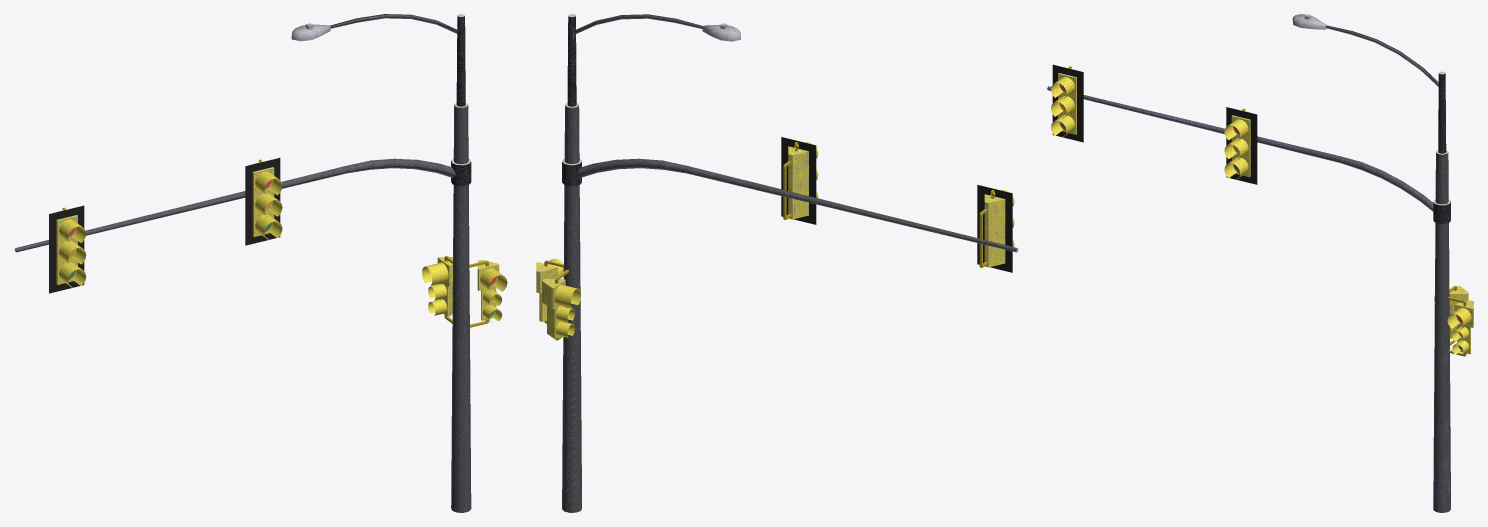
3 renders of one model, left to right at view 1: azimuth 30°, elevation 25°; view 2: azimuth 150°, elevation 25°; view 3: azimuth 330°, elevation 25°, orthographic. The views are drawn at different scales.
Parts seen in each view (by area): view 1: SketchUp, group_2, sun_shield (×2), group_0 (×2); view 2: SketchUp, group_2, sun_shield (×2), group_0 (×2), light (×2); view 3: SketchUp, group_2, sun_shield (×2), group_0 (×2).
Boxes of the visible parts, x1,y1,x2,y2 form: SketchUp: (451,105,471,512); group_2: (16,158,455,252); sun_shield (×2): (49,158,280,293); group_0 (×2): (330,14,465,106); SketchUp: (562,105,581,512); group_2: (577,158,1017,252); sun_shield (×2): (781,137,1012,272); group_0 (×2): (567,14,702,106); light (×2): (788,146,1005,224); SketchUp: (1433,152,1450,512); group_2: (1047,86,1433,211); sun_shield (×2): (1052,64,1257,184); group_0 (×2): (1325,25,1446,153).
Size of the model in its own units: 330 by 54.29 by 341.
